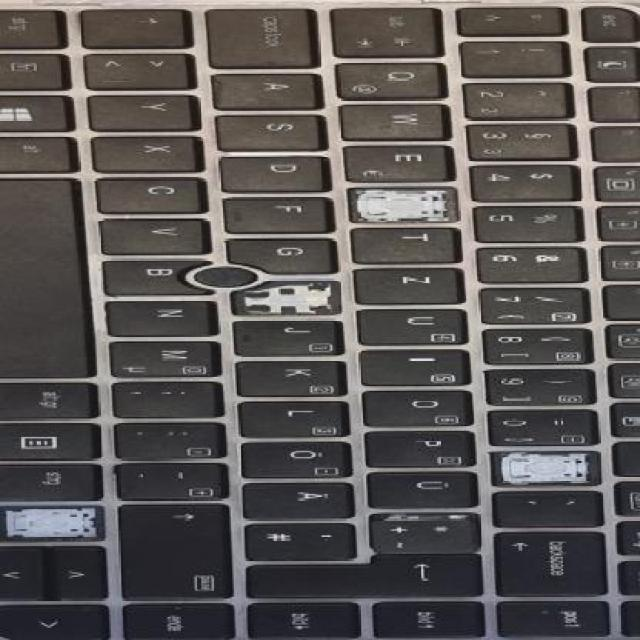Keyboard problems: (349, 188, 457, 222), (492, 451, 598, 485), (0, 506, 103, 540), (237, 282, 338, 312)
